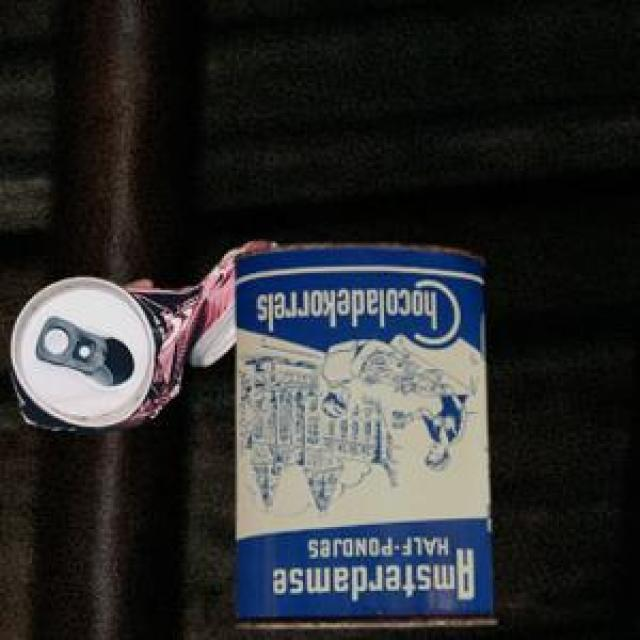Can: (231, 240, 494, 624), (7, 238, 273, 430)
